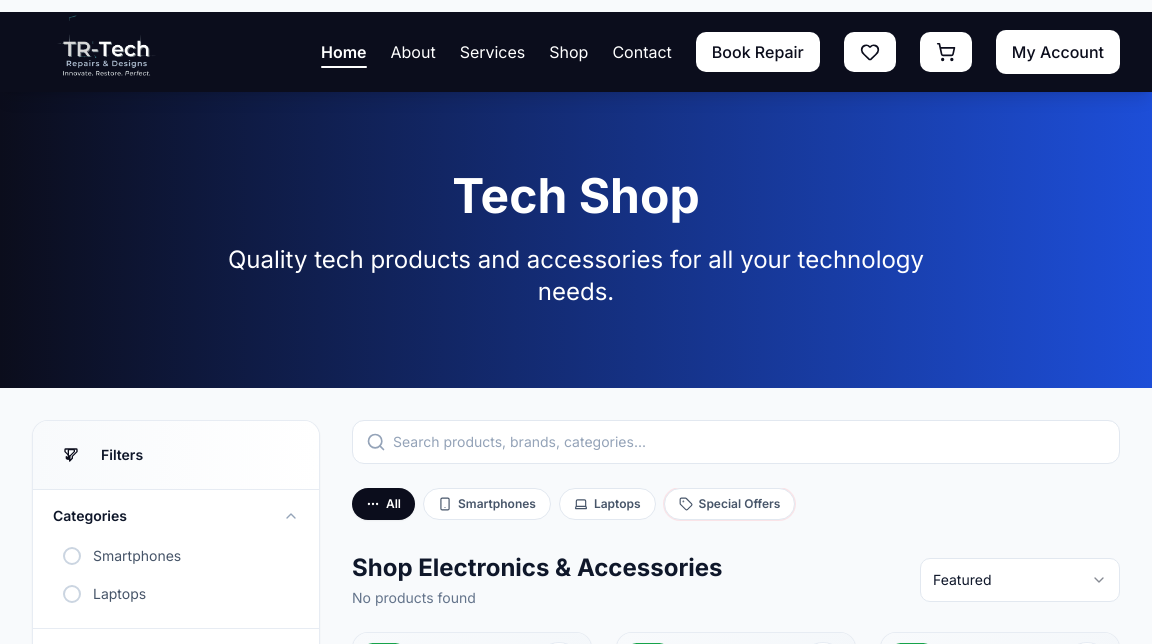
ShopPage › renders clear all filters button when filters active
// Click the Smartphones category checkbox to activate a filter
Click the checkbox labelled "Smartphones" at (122, 556), box top-left (63, 547), bottom-right (181, 565)
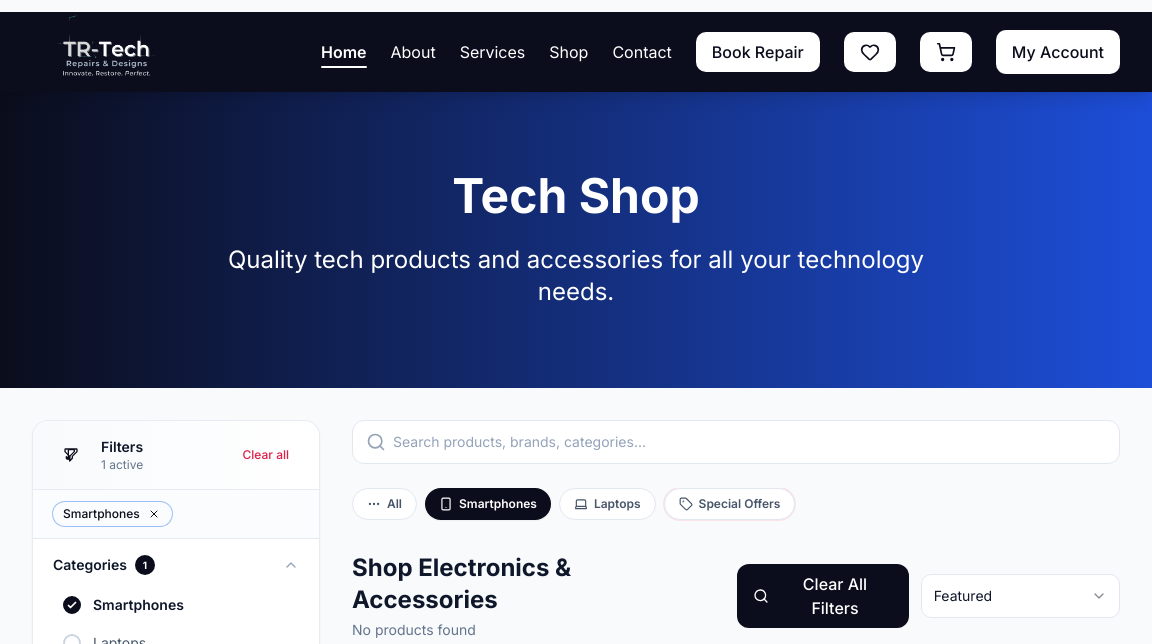
Now the button "Clear all" is shown, box top-left (232, 441), bottom-right (299, 469)
